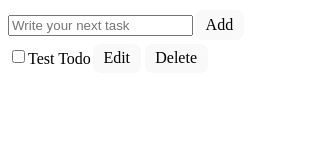
Scenario: Todo Component › adds new todo
Type "New Todo" into the field with placeholder "Write your next task" at (100, 25), box [8,15,193,36]
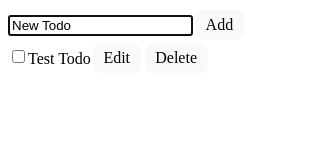
Click the button "Add" at (219, 25), box [195,10,244,40]
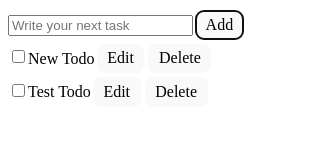
Expected: the text "New Todo" is shown, [28,49,95,66]
